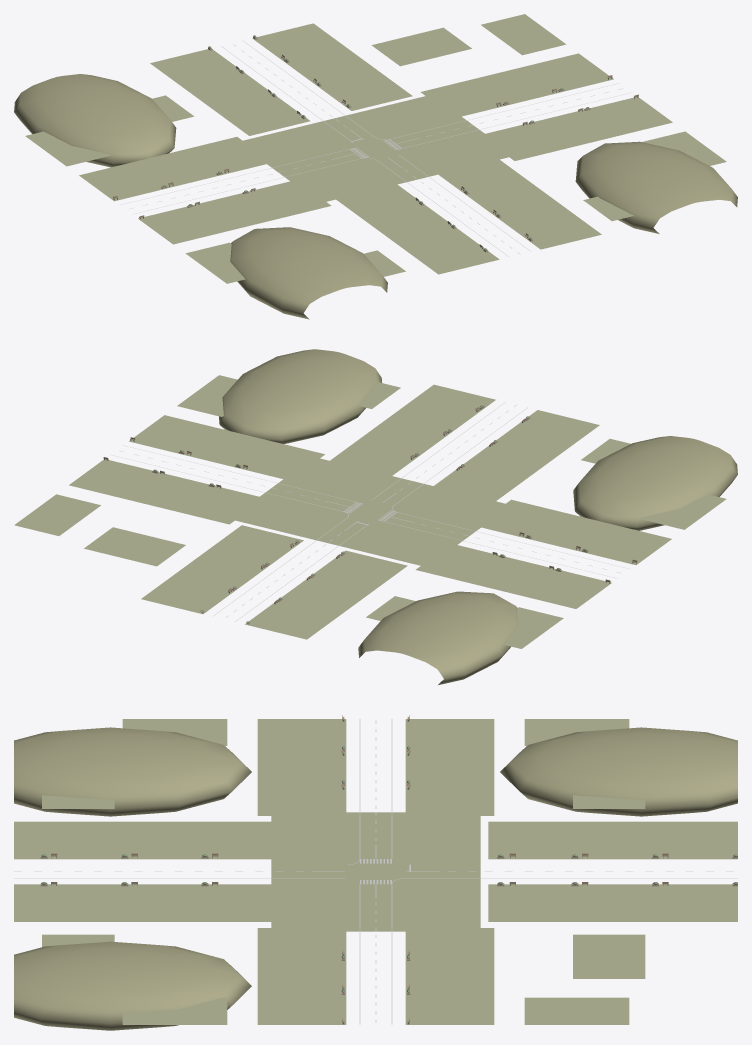
The picture shows the model from 3 angles, top to bottom: view 1: azimuth 30°, elevation 25°; view 2: azimuth 150°, elevation 25°; view 3: azimuth 270°, elevation 25°; orthographic projection. The views are drawn at different scales.
Parts seen in each view (by area): view 1: static; view 2: static; view 3: static.
Boxes of the visible parts, left/top/right/bottom form: static: left=14, top=14, right=737, bottom=319; static: left=14, top=349, right=737, bottom=684; static: left=14, top=715, right=737, bottom=1030.
Size of what is drawn, in the model's own units: 180 by 14.08 by 180.
